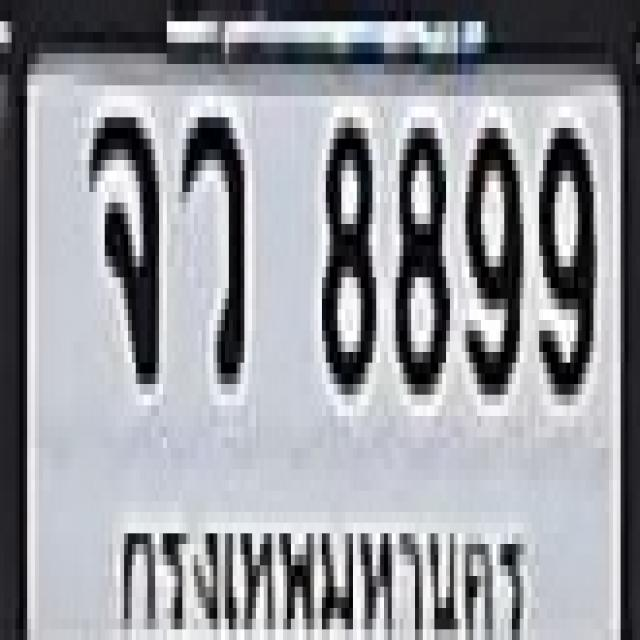8: (318, 107, 372, 384), (392, 112, 446, 379)
9: (535, 112, 590, 379), (461, 112, 516, 379)
A08: (85, 101, 155, 368)
A37: (178, 101, 240, 368)
BKK: (116, 488, 535, 640)
